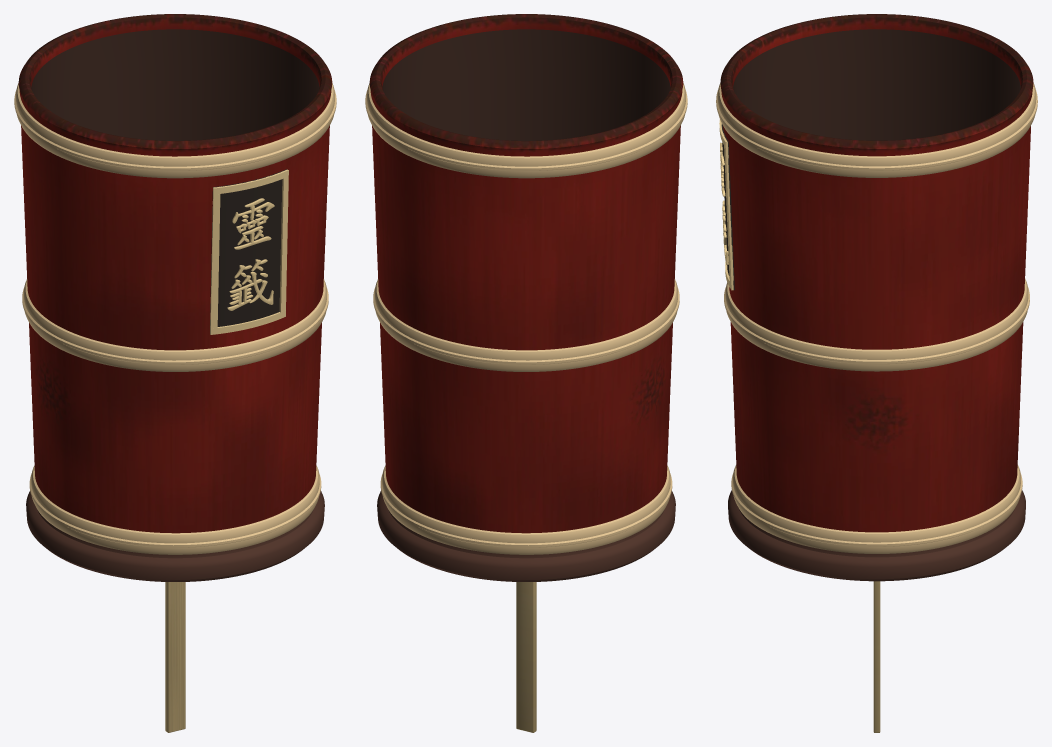
The model's file is qiuqian_tube.glb.
The picture shows the model from 3 angles, left to right: view 1: azimuth 30°, elevation 25°; view 2: azimuth 150°, elevation 25°; view 3: azimuth 270°, elevation 25°; orthographic projection.
Parts seen in each view (by area): view 1: qiuqian_tube, qiuqian_lot; view 2: qiuqian_tube, qiuqian_lot; view 3: qiuqian_tube, qiuqian_lot.
Part boxes in pixels (x1,y1,x2,y2): qiuqian_tube: [14, 14, 336, 581]; qiuqian_lot: [165, 582, 185, 732]; qiuqian_tube: [365, 14, 687, 581]; qiuqian_lot: [516, 582, 536, 732]; qiuqian_tube: [716, 14, 1037, 581]; qiuqian_lot: [873, 581, 880, 732].
Size of the model in its own units: 0.7851 by 1.75 by 0.7851.
Materials: 7 (2 with a texture image).
